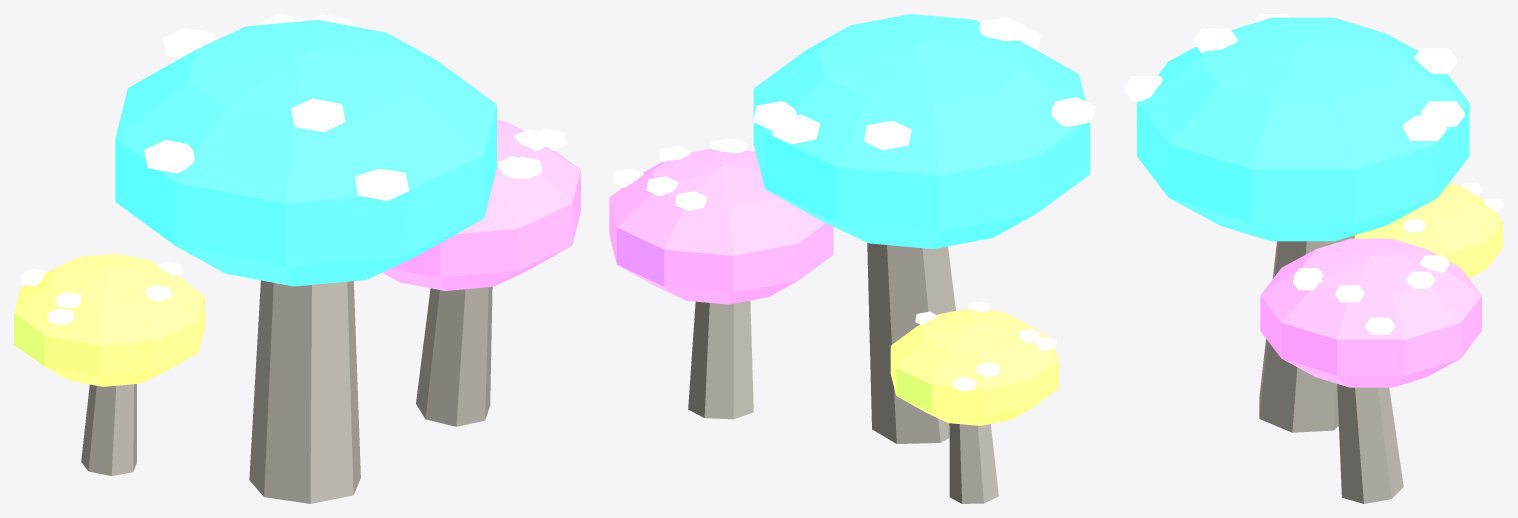
Rendered from glow_mushrooms.glb.
3 views of the same model, side by side, from view 1: azimuth 30°, elevation 25°; view 2: azimuth 150°, elevation 25°; view 3: azimuth 270°, elevation 25° (orthographic). The views are drawn at different scales.
Parts seen in each view (by area): view 1: glow_mushrooms; view 2: glow_mushrooms; view 3: glow_mushrooms.
Part boxes in pixels (<box>): glow_mushrooms: <box>14,14,580,503</box>; glow_mushrooms: <box>609,14,1095,503</box>; glow_mushrooms: <box>1124,14,1503,503</box>.
Bounding box in the file's own units: 2.6 × 2.11 × 1.95.
